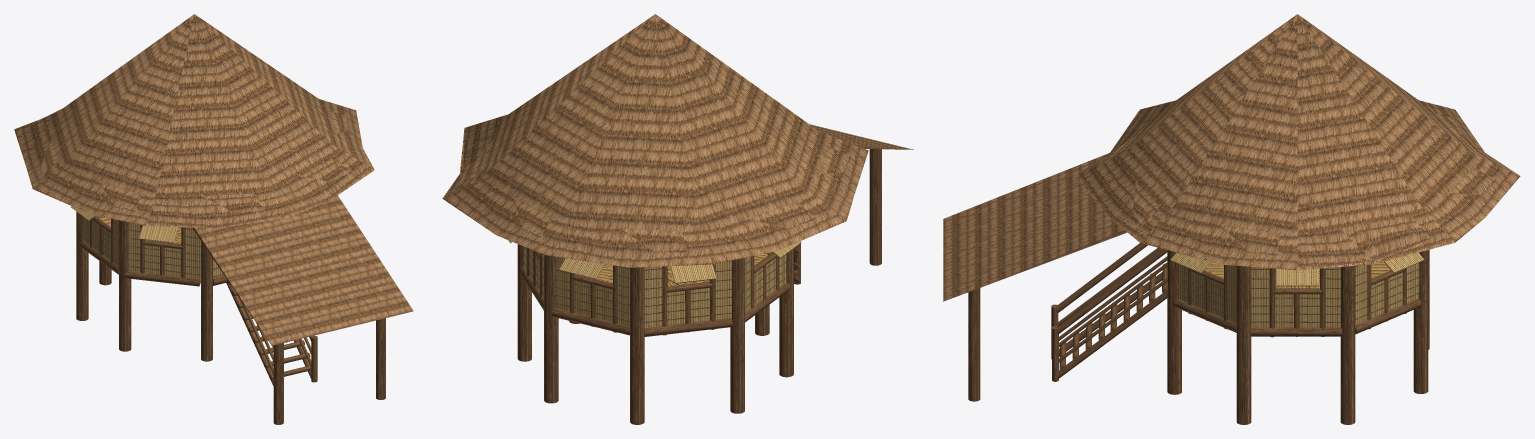
Rendered from redonda.fbx.
3 renders of one model, left to right at view 1: azimuth 30°, elevation 25°; view 2: azimuth 150°, elevation 25°; view 3: azimuth 270°, elevation 25°, orthographic. The views are drawn at different scales.
Parts seen in each view (by area): view 1: Circle, Cube.010, Redonda Poste, Redonda Wall, Redonda Stairs, Cube.007; view 2: Circle, Redonda Wall, Redonda Poste, Cube.010, Cube.005, Cube.004; view 3: Circle, Cube.010, Redonda Wall, Redonda Poste, Redonda Stairs, Cube.002.
Boxes of the visible parts, box(x1,y1,x2,y2) form: Circle: box(14, 14, 374, 228); Cube.010: box(192, 195, 413, 345); Redonda Poste: box(76, 211, 385, 424); Redonda Wall: box(79, 215, 226, 286); Redonda Stairs: box(226, 280, 317, 385); Cube.007: box(139, 225, 178, 242); Circle: box(442, 14, 868, 267); Redonda Wall: box(519, 247, 789, 336); Redonda Poste: box(517, 142, 881, 424); Cube.010: box(809, 124, 913, 149); Cube.005: box(670, 264, 716, 283); Cube.004: box(559, 258, 604, 279); Circle: box(1075, 14, 1520, 270); Cube.010: box(943, 153, 1126, 301); Redonda Wall: box(1173, 263, 1421, 337); Redonda Poste: box(968, 214, 1429, 424); Redonda Stairs: box(1051, 243, 1167, 381); Cube.002: box(1276, 268, 1318, 286).
Size of the model in its own units: 2626 by 2312 by 3398.
